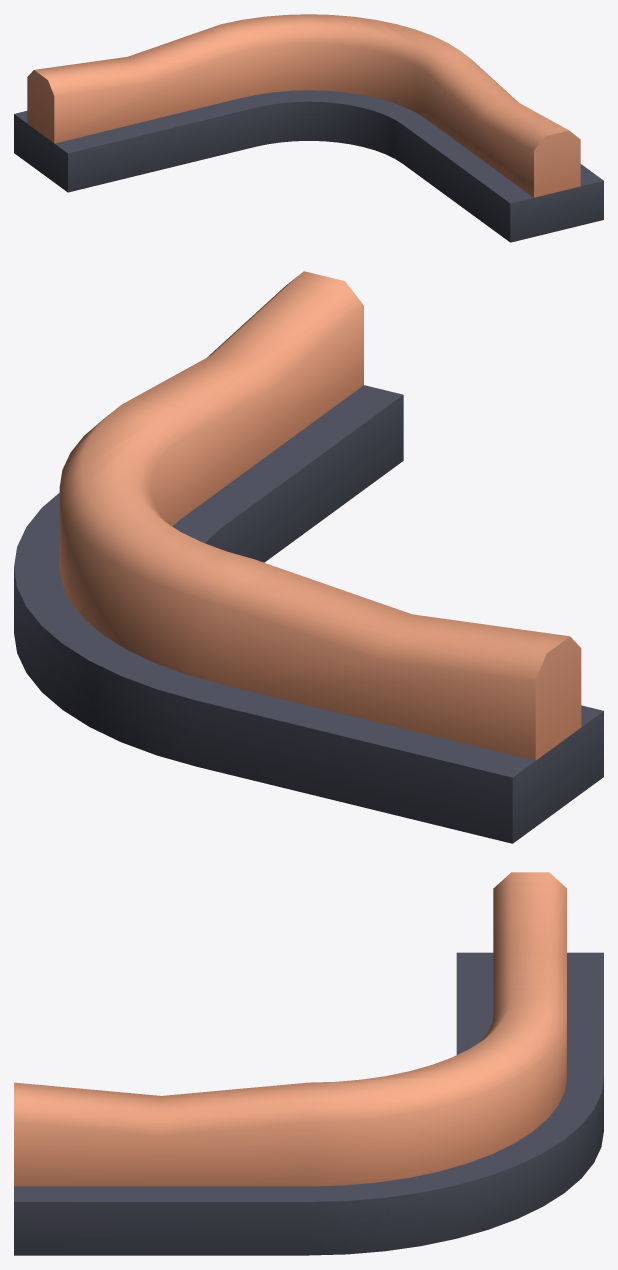
Rendered from hedge-curved.glb.
The picture shows the model from 3 angles, top to bottom: view 1: azimuth 30°, elevation 25°; view 2: azimuth 150°, elevation 25°; view 3: azimuth 270°, elevation 25°; orthographic projection. The views are drawn at different scales.
Visible parts, largest first — view 1: hedge-curved; view 2: hedge-curved; view 3: hedge-curved.
Boxes of the visible parts, <box> form: hedge-curved: <box>14,14,603,242</box>; hedge-curved: <box>14,271,603,843</box>; hedge-curved: <box>14,872,603,1255</box>.
Size of the model in its own units: 1 by 0.25 by 1.
Materials: 1 (1 with a texture image).
